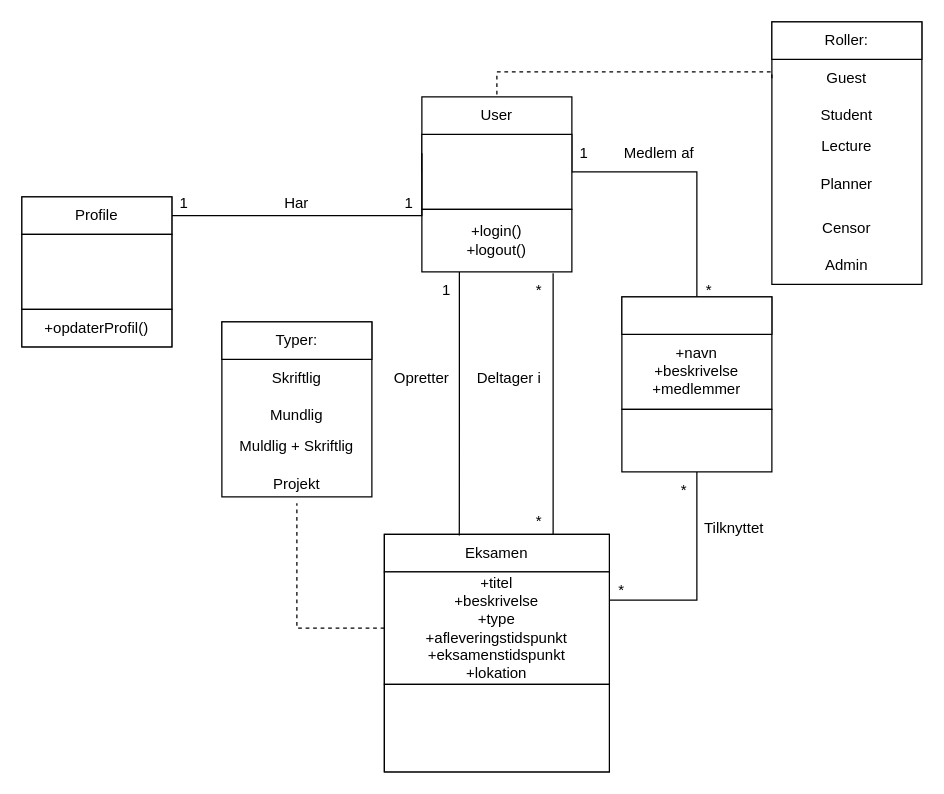
This 944x794 diagram has some shape labels left out. Here are the shapes that lost their labels. From the top down, the box of each, then its label:
(421, 133, 572, 209): +email +navn +rolle
(21, 233, 172, 309): +navn +adresse +mobilnr
(621, 296, 772, 334): Team
(621, 408, 772, 472): +tilføjMedlem() +fjernMedlem()
(383, 683, 609, 772): +opretEksamen() +tilføjDeltager()
